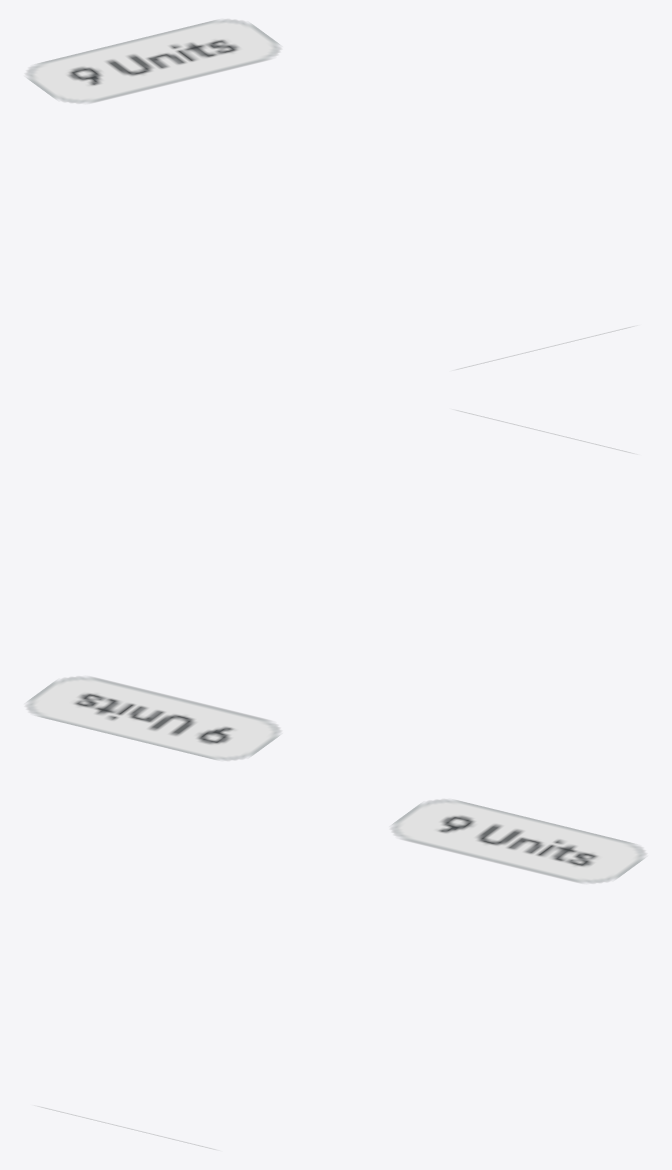
Rendered from inactive.glb.
3 renders of one model, top to bottom at view 1: azimuth 30°, elevation 25°; view 2: azimuth 150°, elevation 25°; view 3: azimuth 330°, elevation 25°, orthographic.
Parts seen in each view (by area): view 1: Inactive - Plane; view 2: Inactive - Plane; view 3: Inactive - Plane.
Boxes of the visible parts, box(x1,y1,x2,y2) form: Inactive - Plane: box(25, 19, 634, 369); Inactive - Plane: box(25, 410, 634, 760); Inactive - Plane: box(37, 799, 646, 1149).
Size of the model in its own units: 0.053 by 3.8e-17 by 0.171.
Materials: 1 (1 with a texture image).
